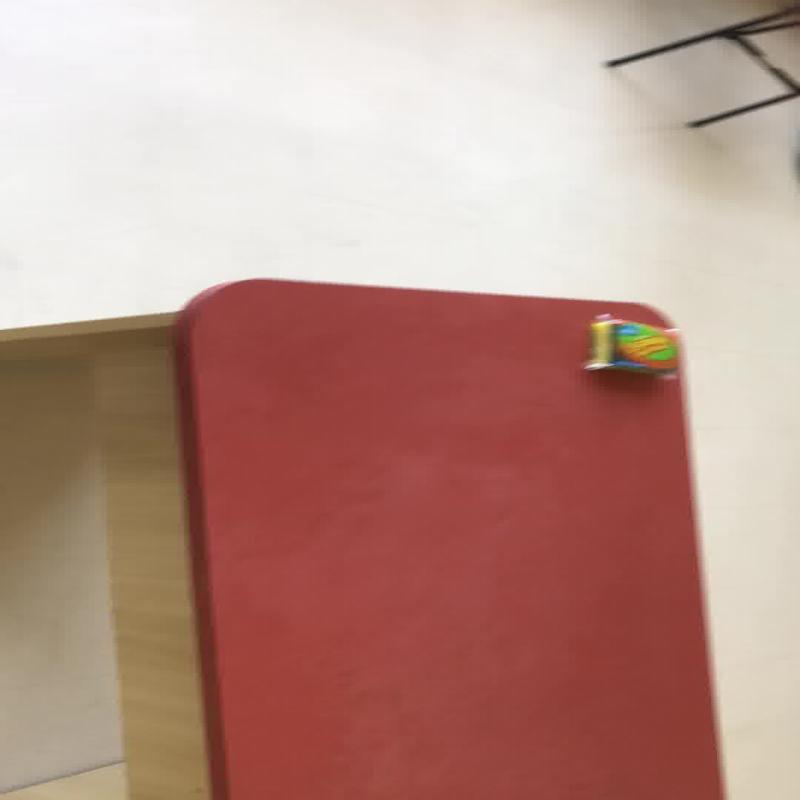sponge: (172, 276, 728, 798), (582, 314, 678, 374)
